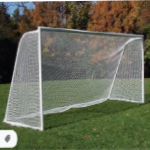goals: (3, 24, 145, 131)
